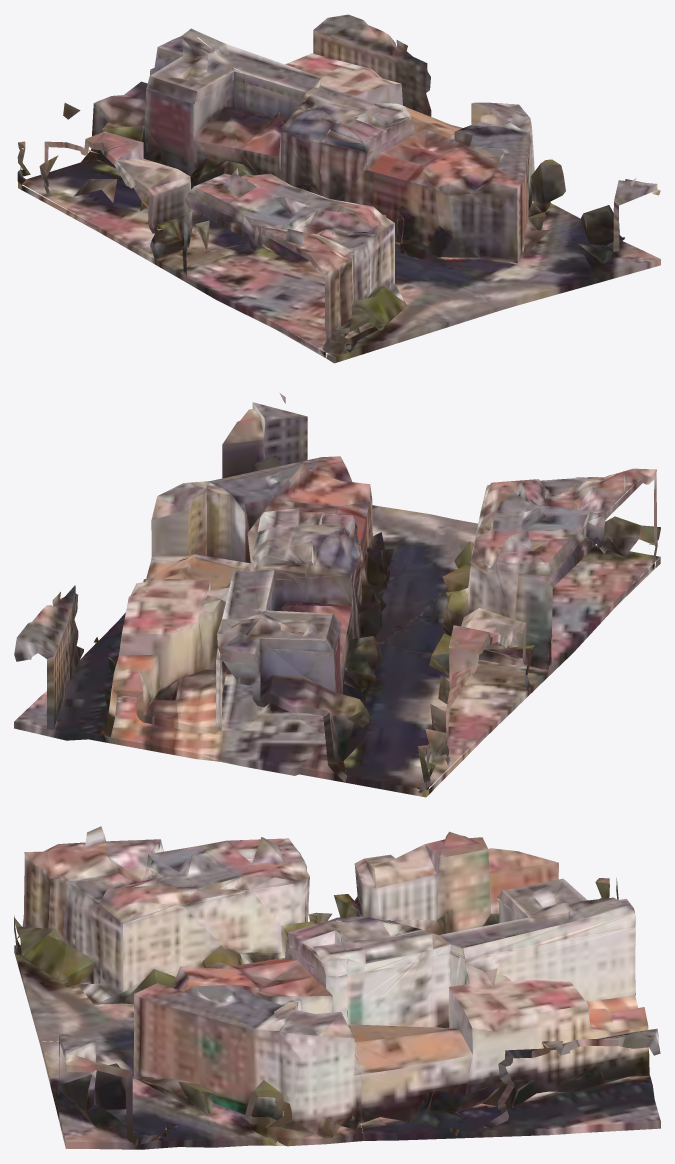
3 renders of one model, top to bottom at view 1: azimuth 30°, elevation 25°; view 2: azimuth 150°, elevation 25°; view 3: azimuth 270°, elevation 25°, orthographic. The views are drawn at different scales.
Parts seen in each view (by area): view 1: Mesh_0; view 2: Mesh_0; view 3: Mesh_0.
Part boxes in pixels (left/top/right/bottom): Mesh_0: left=17, top=14, right=660, bottom=363; Mesh_0: left=14, top=393, right=660, bottom=797; Mesh_0: left=14, top=826, right=660, bottom=1149.
Size of the model in its own units: 134 by 38.58 by 165.
Materials: 1 (1 with a texture image).
